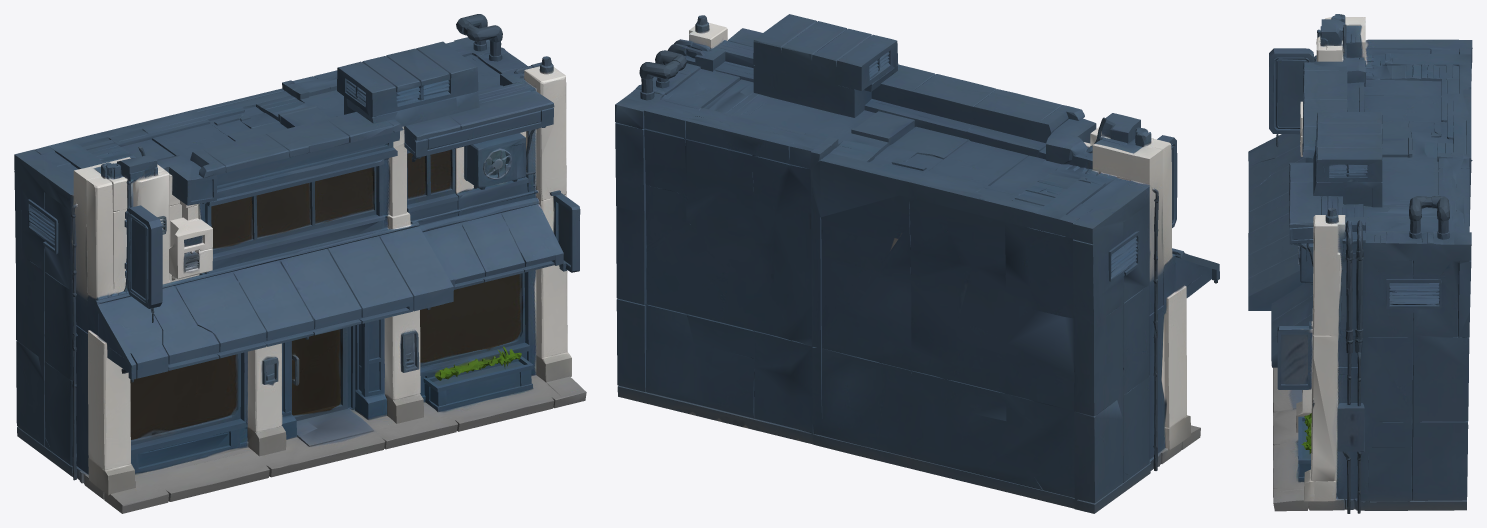
3 views of the same model, side by side, from view 1: azimuth 30°, elevation 25°; view 2: azimuth 150°, elevation 25°; view 3: azimuth 270°, elevation 25° (orthographic). The views are drawn at different scales.
Visible parts, largest first — view 1: model; view 2: model; view 3: model.
Boxes of the visible parts, <box> form: model: <box>14,14,586,513</box>; model: <box>615,14,1219,513</box>; model: <box>1248,14,1472,513</box>.
Size of the model in its own units: 1.89 by 1.26 by 0.8172.
Materials: 1 (1 with a texture image).
